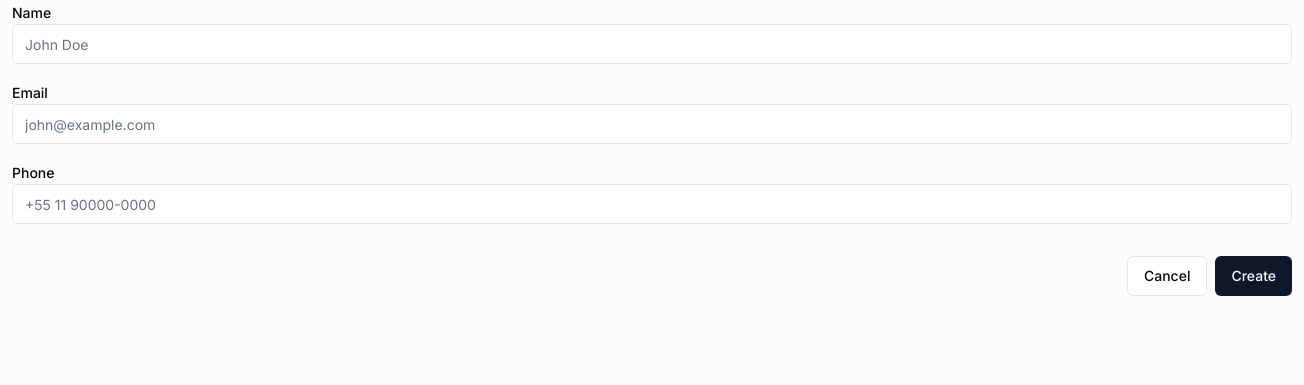
it: Frontend Component Tests › should show errors for invalid input
Click the button with test id "submit-button" at x=1254, y=276, box [1215,256,1292,296]
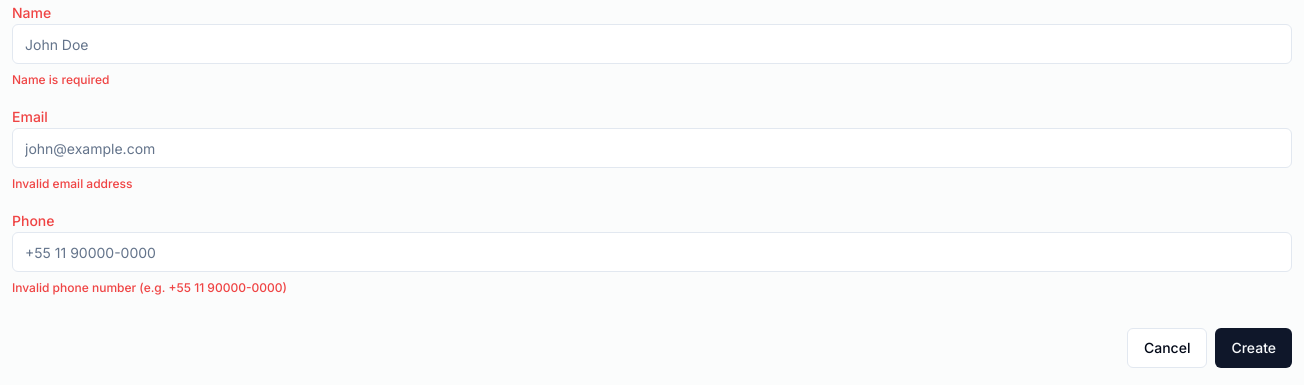
Now the text "Name is required" is shown, box [12,72,110,87]
Now the text "Invalid email address" is shown, box [12,176,132,191]
